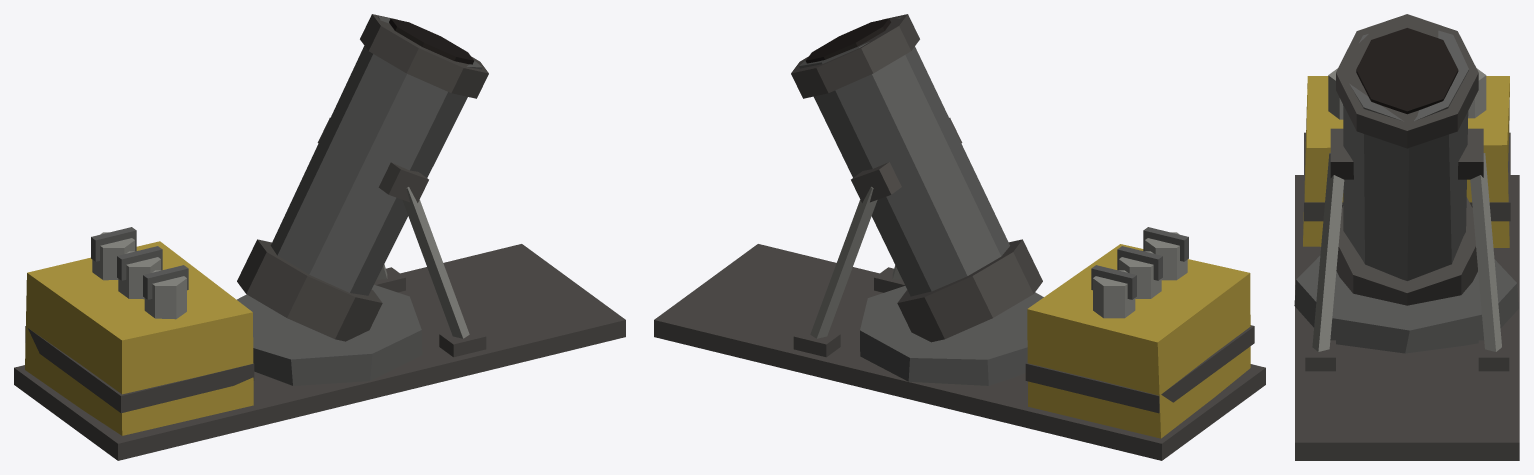
Rendered from util_mortar.glb.
3 views of the same model, side by side, from view 1: azimuth 30°, elevation 25°; view 2: azimuth 150°, elevation 25°; view 3: azimuth 270°, elevation 25° (orthographic). The views are drawn at different scales.
Visible parts, largest first — view 1: util_mortar; view 2: util_mortar; view 3: util_mortar.
Boxes of the visible parts, left/top/right/bottom form: util_mortar: left=14, top=14, right=625, bottom=460; util_mortar: left=654, top=14, right=1265, bottom=460; util_mortar: left=1294, top=14, right=1519, bottom=460.
Bounding box in the file's own units: 1.24 × 0.7469 × 0.4411.
